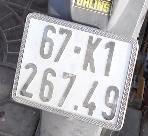1: (101, 38, 118, 81)
2: (18, 60, 38, 100)
4: (81, 80, 100, 117)
6: (39, 66, 56, 105), (38, 21, 54, 62)
7: (57, 69, 75, 111), (54, 25, 73, 64)
9: (100, 84, 122, 124)
K: (81, 32, 102, 76)
